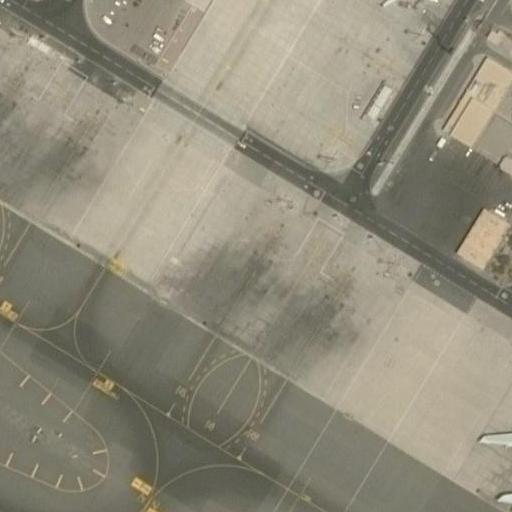Aircraft: (471, 380, 512, 512), (367, 0, 439, 13)
